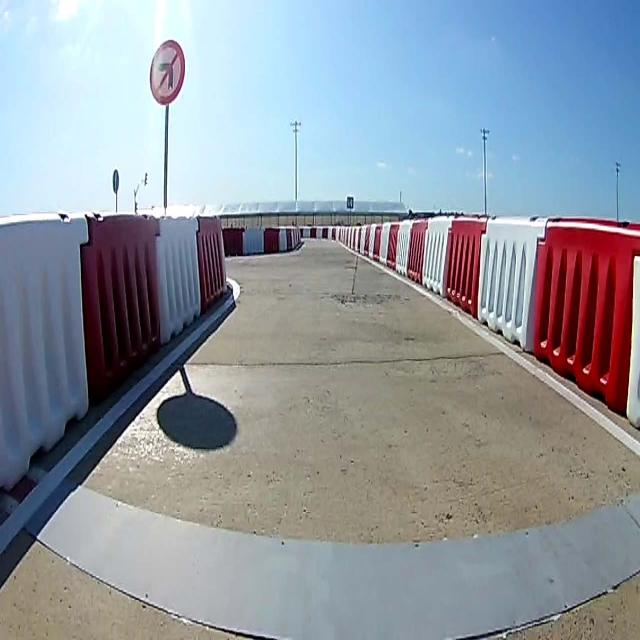soladonulmez: (148, 40, 188, 103)
